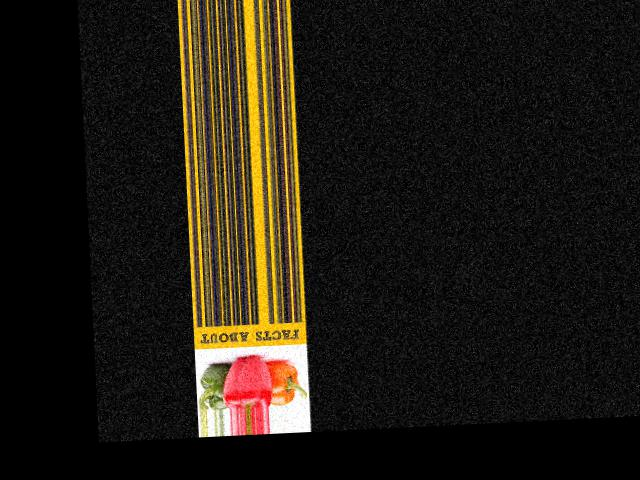bell_pepper: (196, 356, 227, 409)
